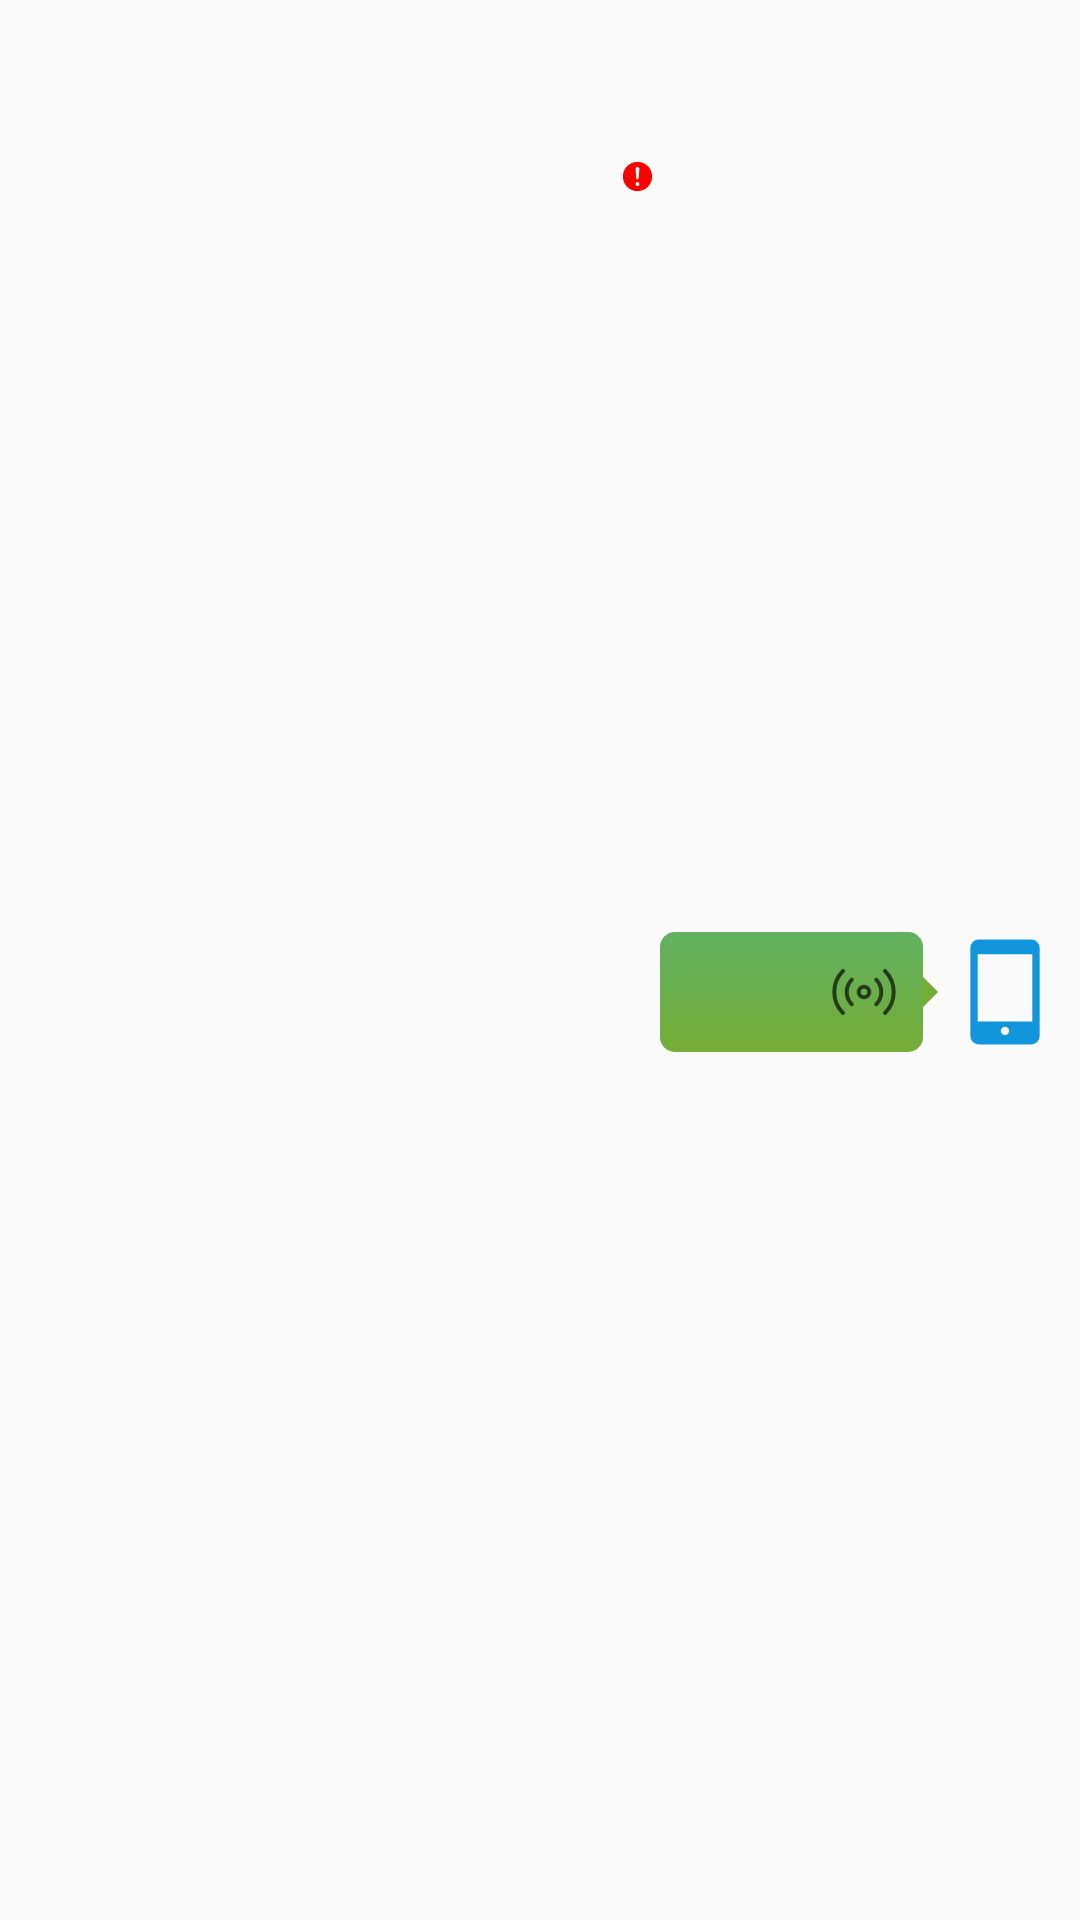

Icon bounding boxes for this 1080×1920 phone screenshot, format (x1, y1, x2, y2):
warning: (623, 162, 652, 191)
